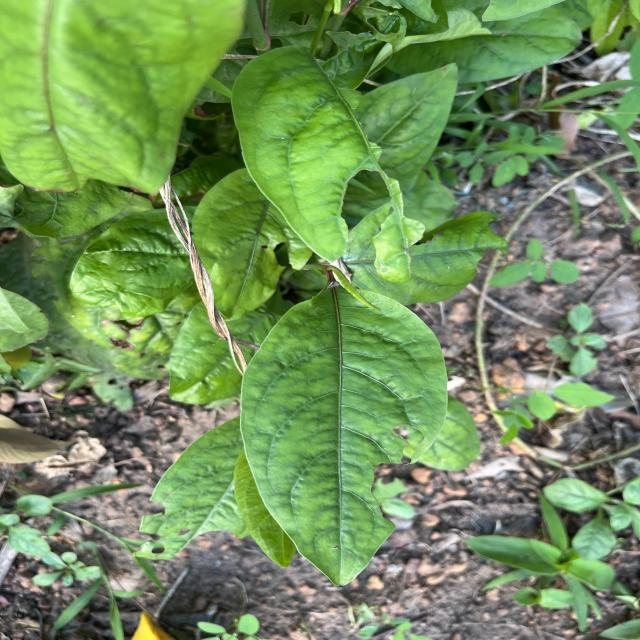Plumbago indica: (240, 284, 453, 598)
